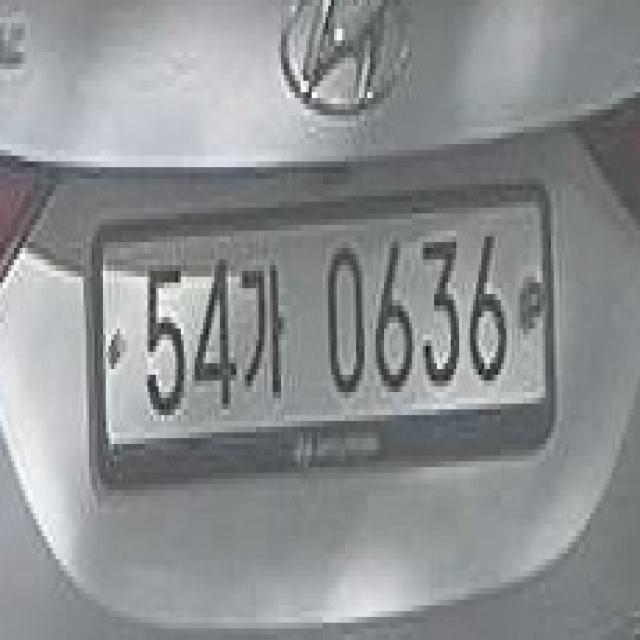0: (320, 236, 365, 398)
3: (417, 213, 465, 392)
4: (187, 242, 242, 415)
5: (136, 248, 190, 432)
6: (367, 219, 415, 392), (464, 225, 514, 386)
ga: (234, 254, 292, 404)
license_plate: (80, 173, 554, 507)
